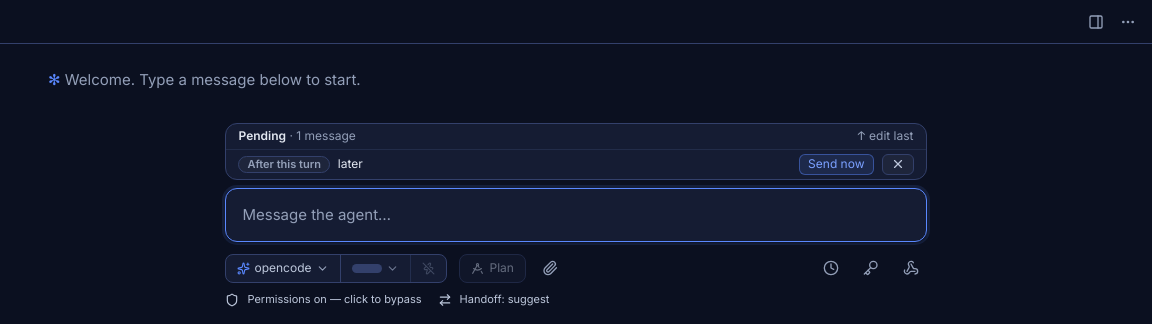
Scenario: ChatPanel busy send + inbox › pending card (v2-next) › one action in flight per row: the row's controls are disabled until the box answers
Click the button with test id "inbox-send-now" at (836,164), box [799, 154, 874, 175]
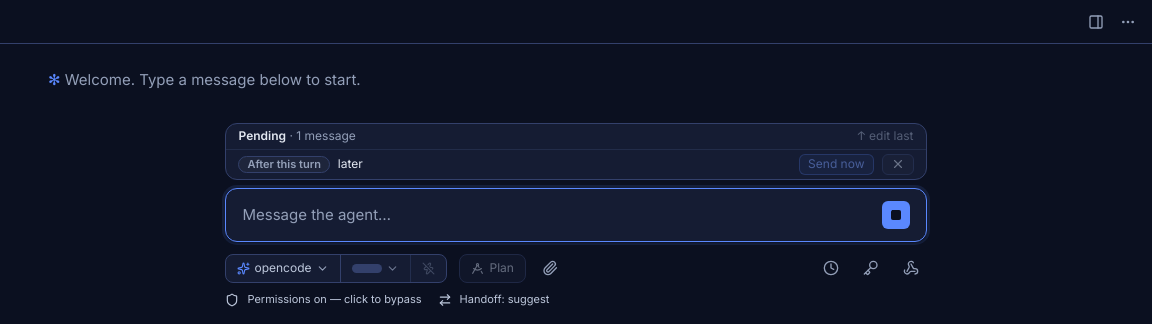
Check: the button with test id "inbox-send-now" is disabled
Check: the button with test id "inbox-cancel" is disabled, box [882, 154, 914, 175]
Click the button with test id "inbox-send-now" at (836,164), box [799, 154, 874, 175]
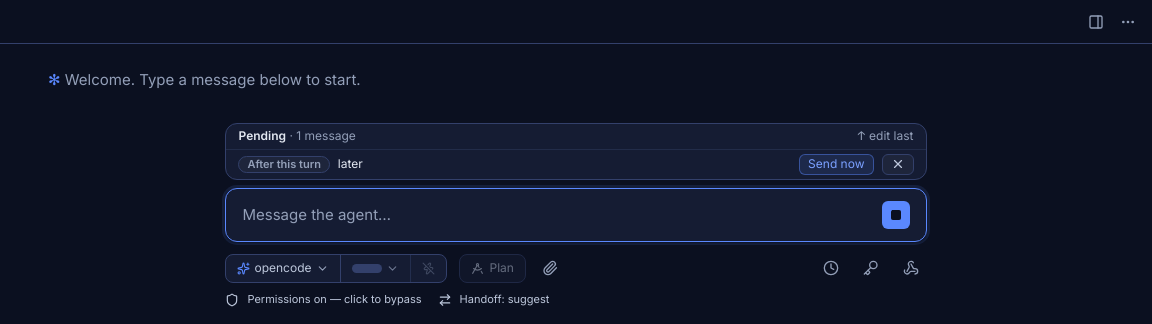
Check: the button with test id "inbox-send-now" is enabled, box [799, 154, 874, 175]
